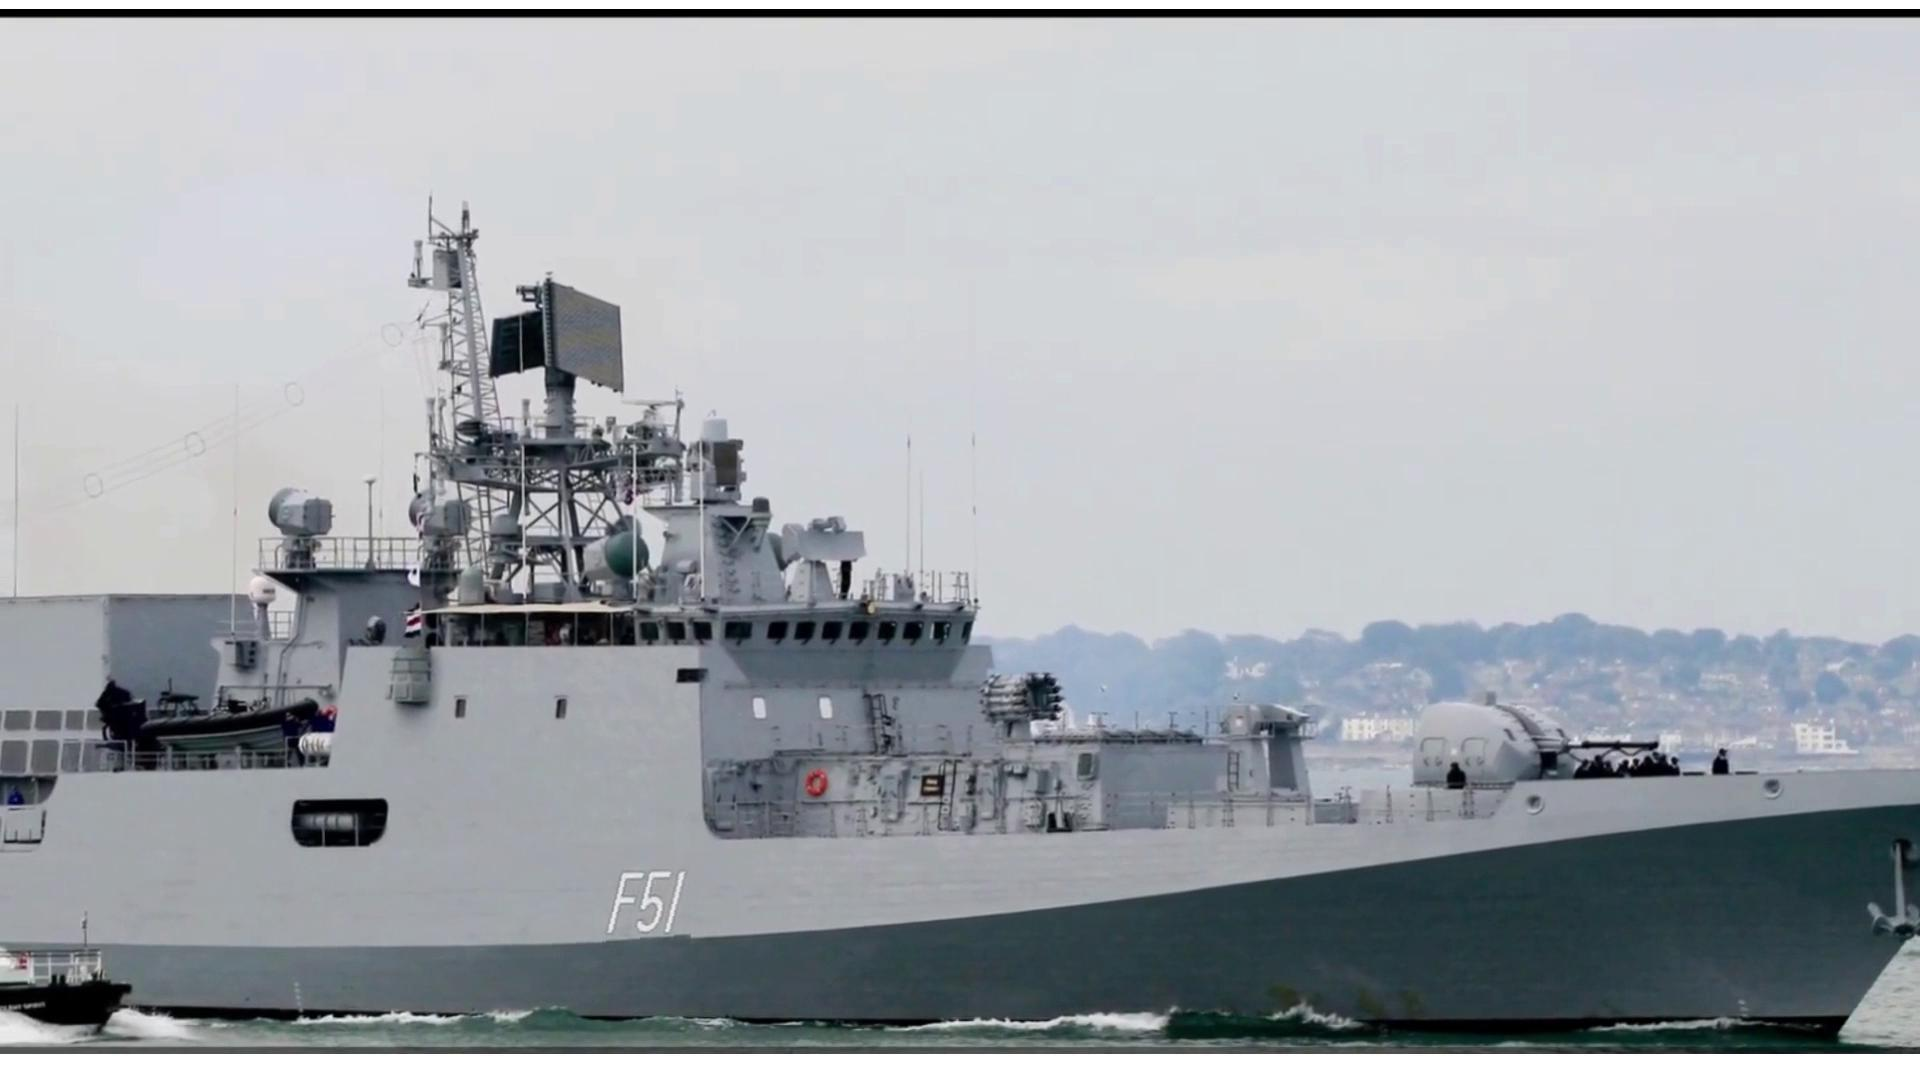OCR: (603, 860, 704, 949)
